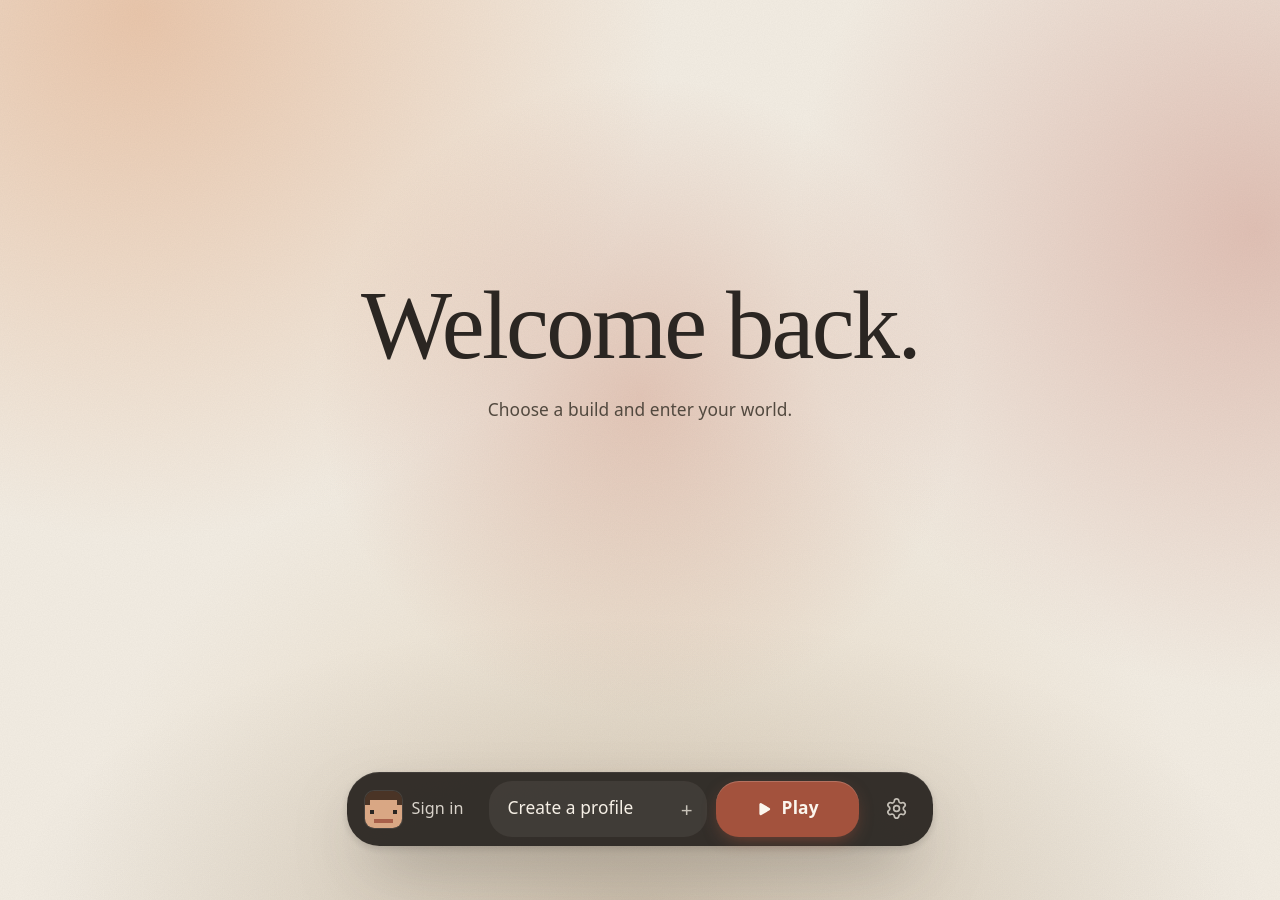
Test: account menu in the dock › with no accounts it only offers to add one, and invents none
Click the button "Sign in".
click(418, 809)  # box [356,781,480,837]
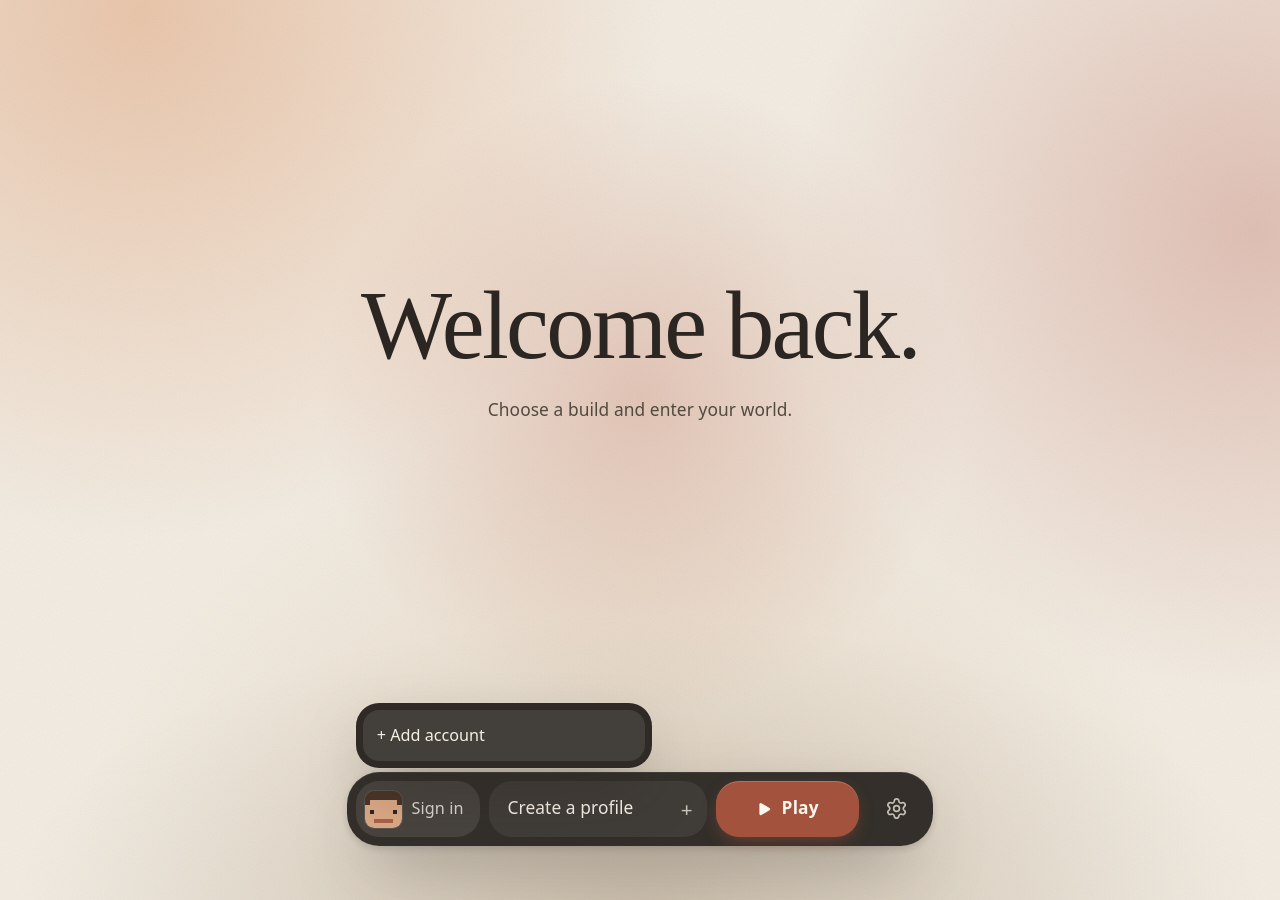
Expected: the menu is shown, [356,703,652,768]
Expected: the menu item "+ Add account" is shown, [363,710,645,761]
